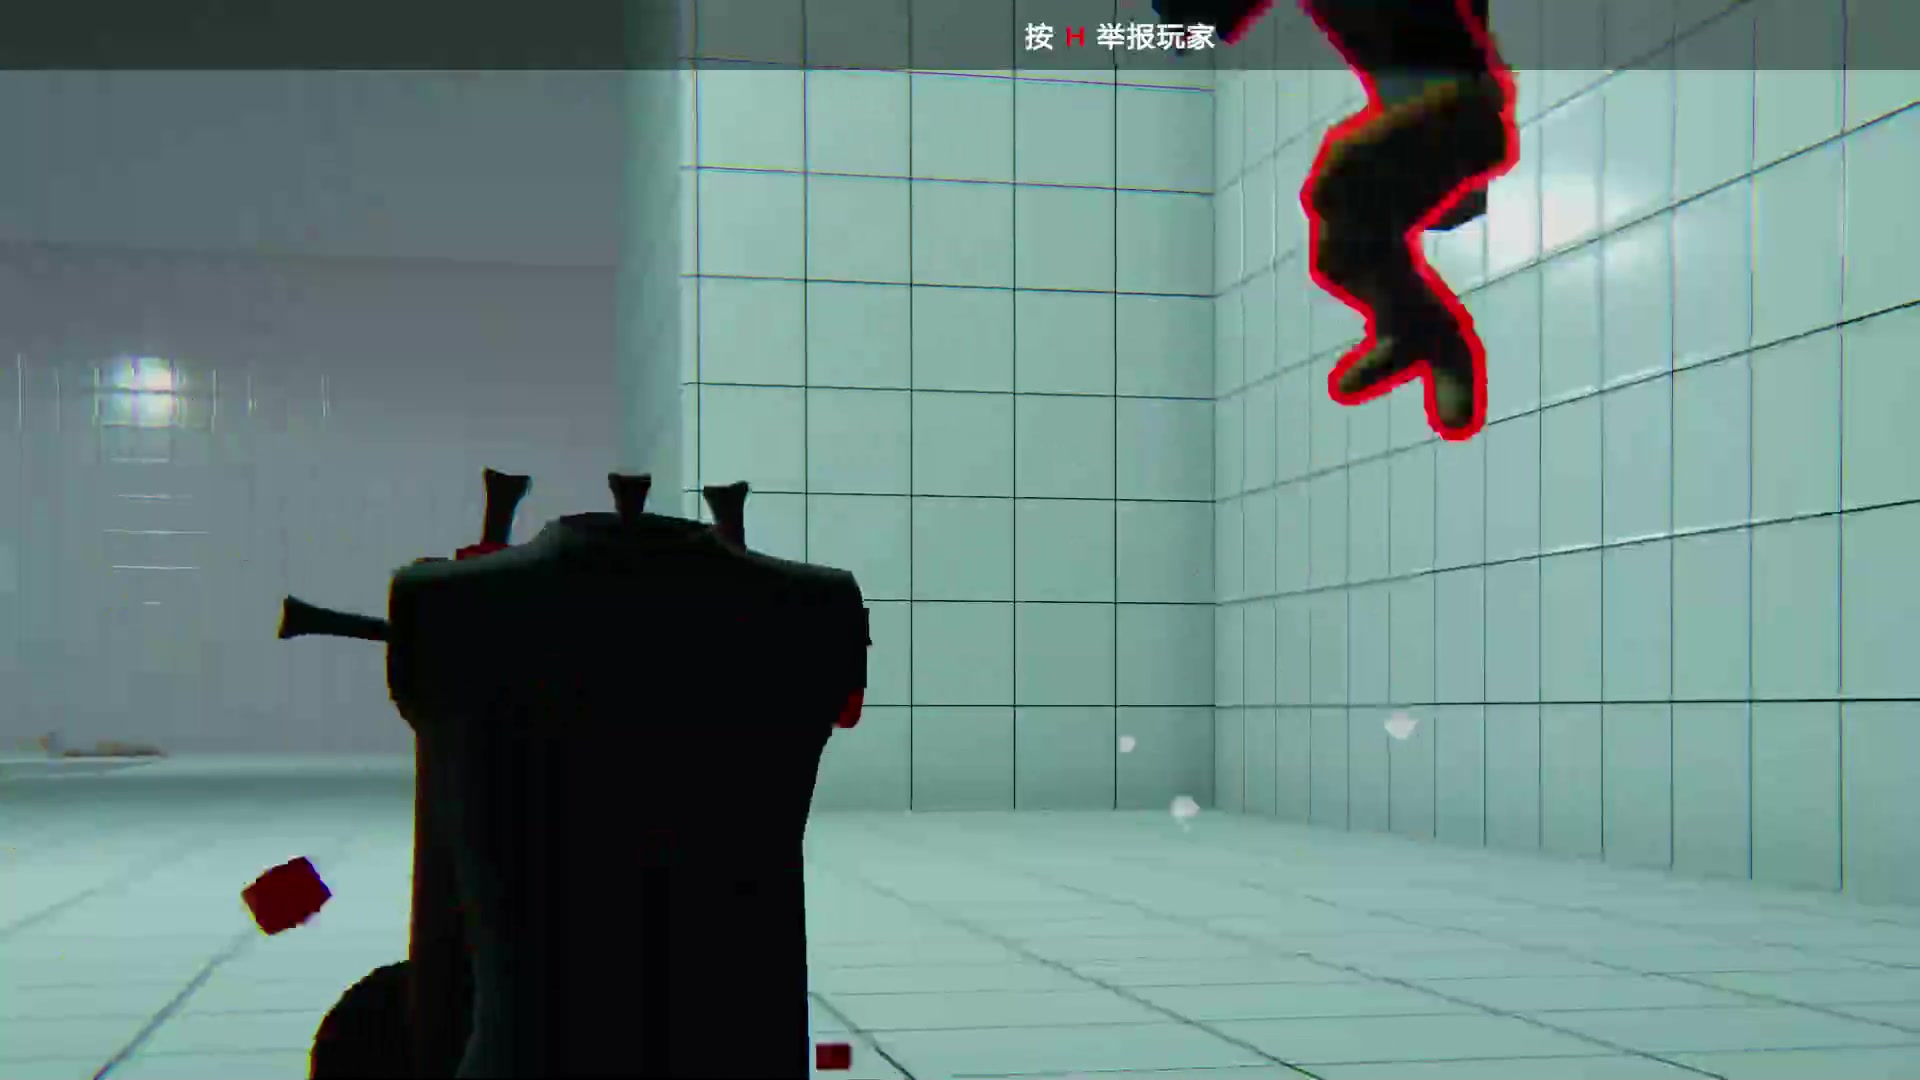died: (386, 467, 854, 1080)
human: (1266, 15, 1508, 430)
